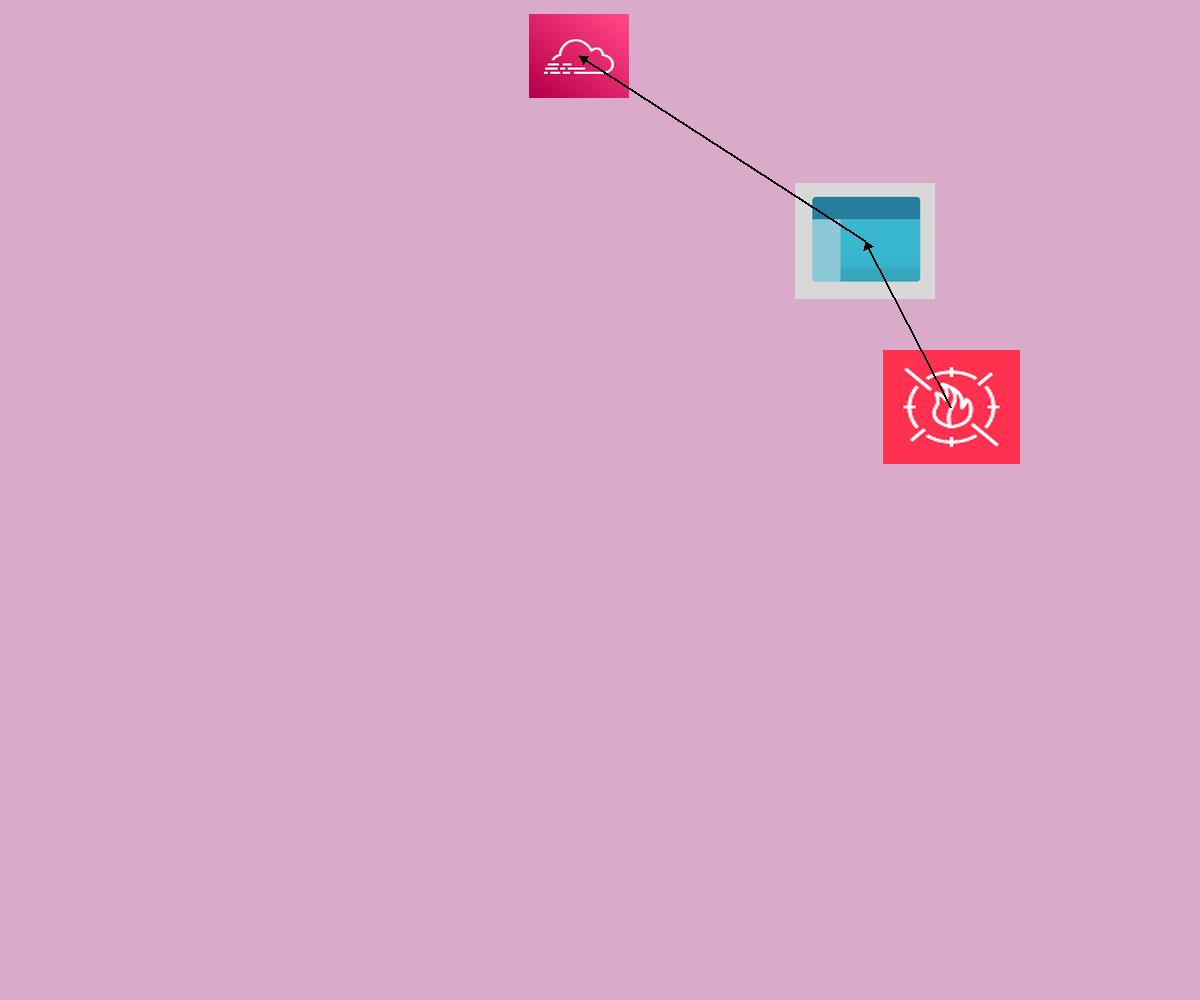AWS-CloudTrail: (529, 14, 629, 98)
AWS-WAF: (883, 350, 1020, 464)
Azure_management-portal: (795, 183, 935, 299)
